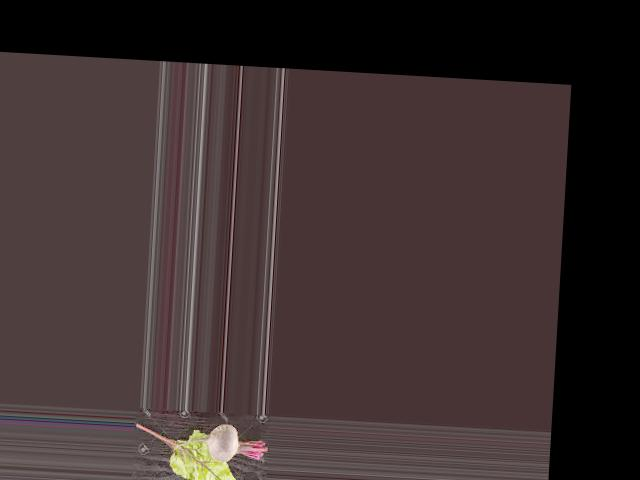beet: (171, 420, 269, 464)
